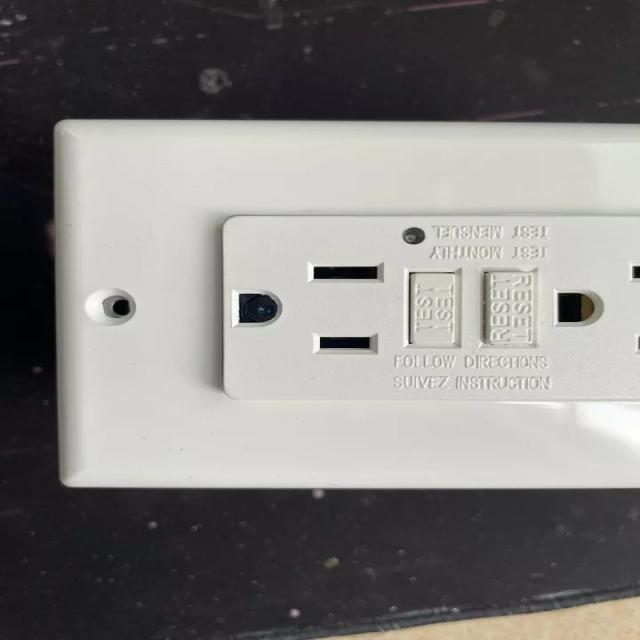hidden camera: (244, 296, 279, 322)
